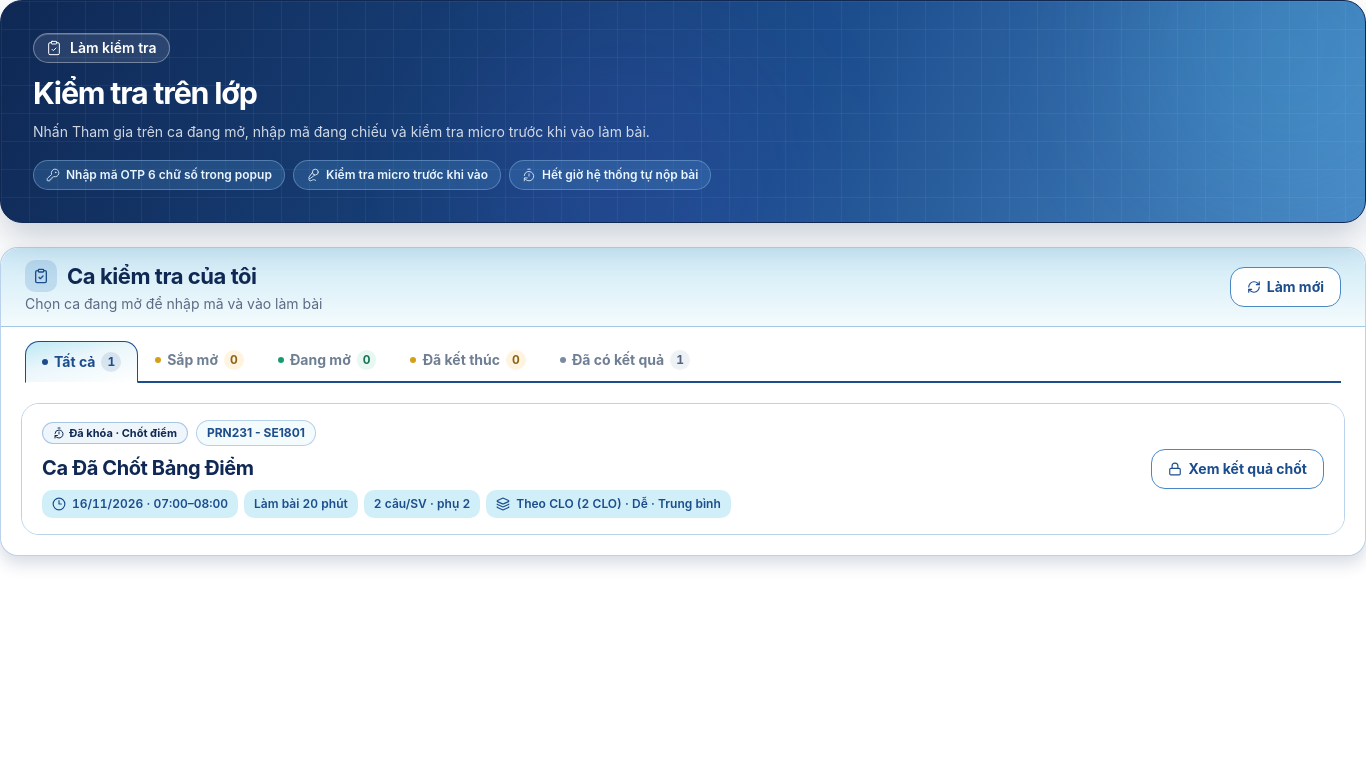
Test: MF-05 End-to-End Frontend Hardening (Follow-up Ordering, Score Compensation & Mandatory Audit Reason) › computes compensated overall score (Max per question) and renders resolved follow-up prompt on StudentInClassExamPage after FINALIZED
Click the button "Xem kết quả chốt": (1238, 469) [1151,449,1324,489]
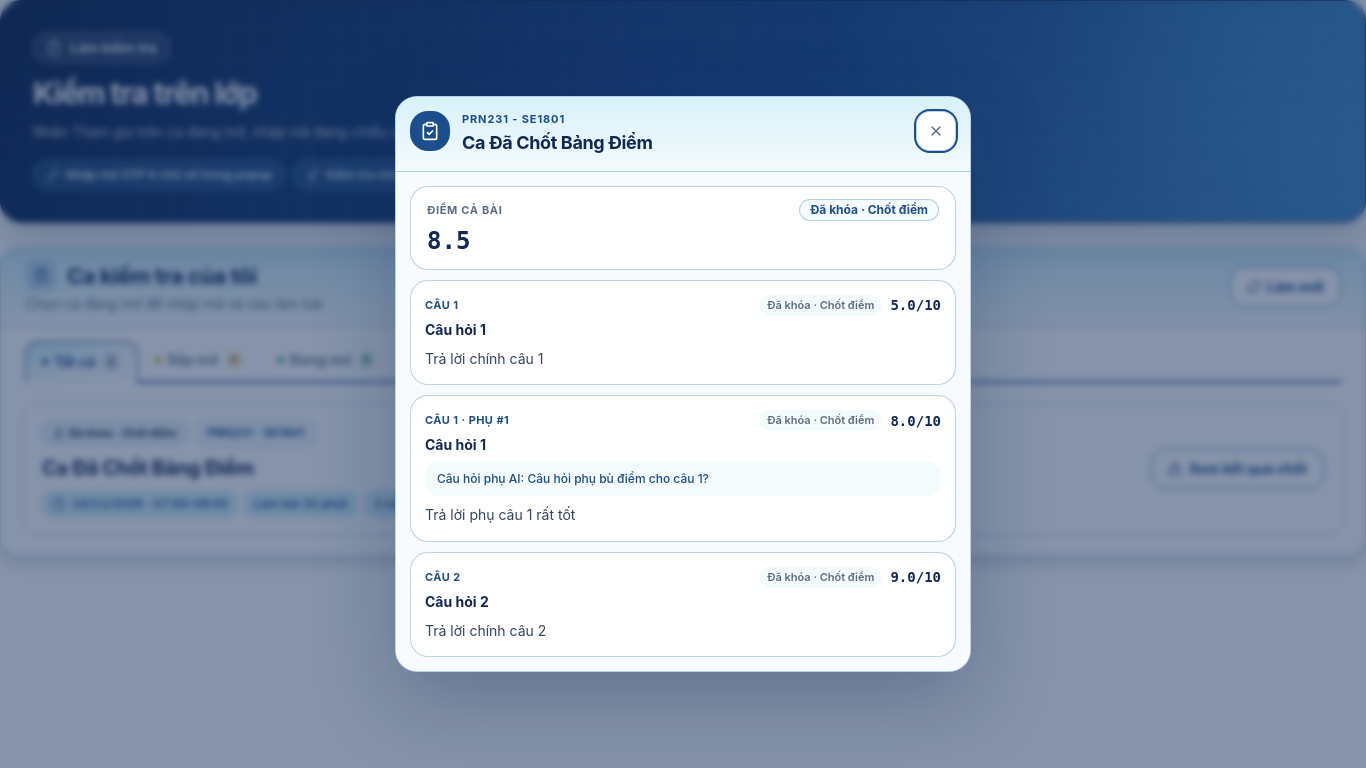
Result: the text "8.5" is shown at [427,227,470,255]
Result: the text "Câu hỏi phụ AI: Câu hỏi phụ bù điểm cho câu 1?" is shown at [425,461,941,496]
